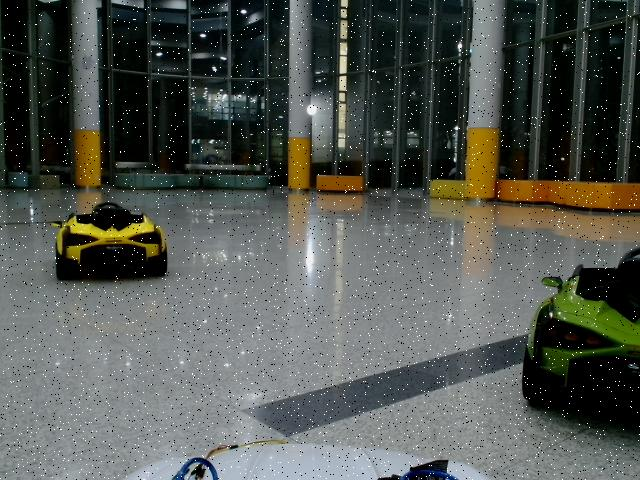car: (523, 246, 640, 416), (50, 202, 168, 281)
